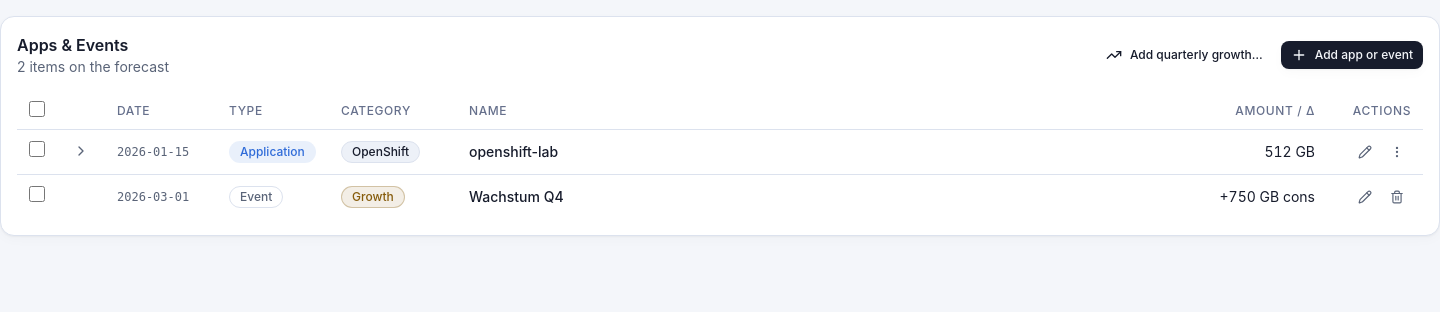
Test case: ItemsTab — bulk date shift (#256) › clears the selection and hides the action bar
Click the checkbox named "Select openshift-lab" at coordinates (37, 149), box [29, 141, 45, 157]
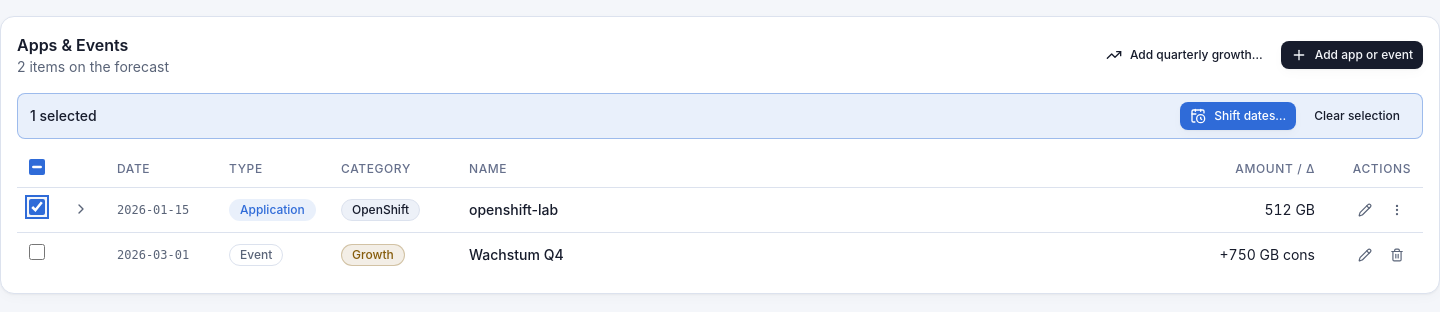
Click the button "Clear selection" at coordinates (1357, 116), box [1304, 102, 1410, 130]
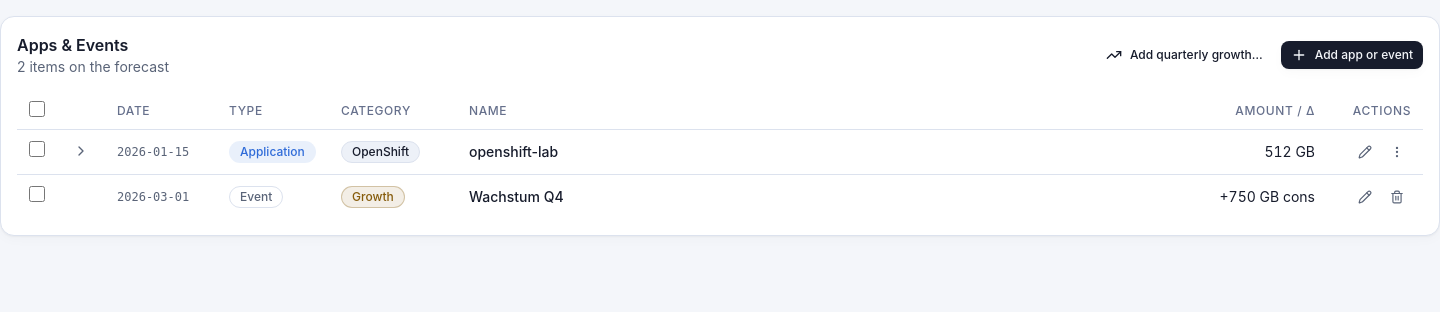
Expected: the button "Shift dates" is gone
